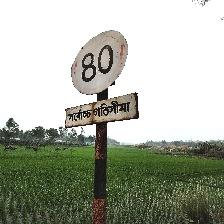Speed-limit: (67, 28, 136, 129)
